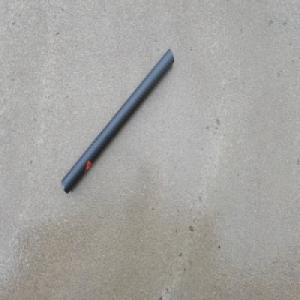LuggagePart: (58, 46, 175, 198)
